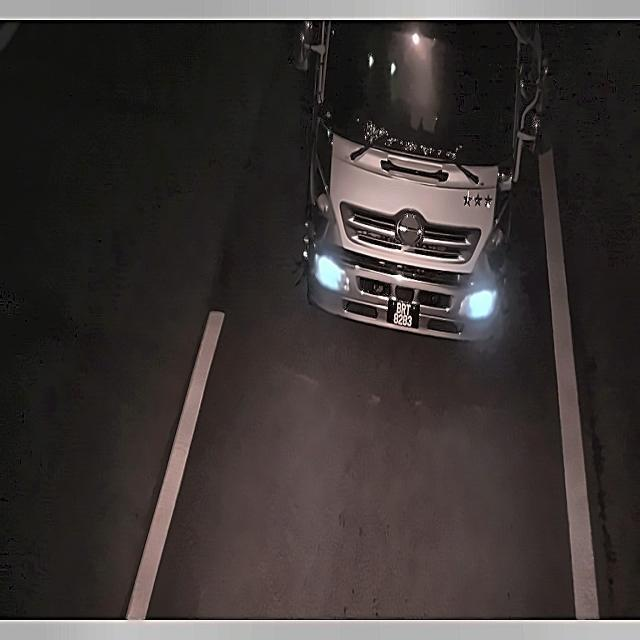car: (387, 294, 418, 333)
